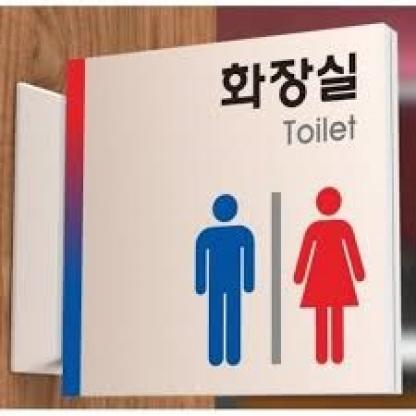toilet: (185, 180, 374, 373)
